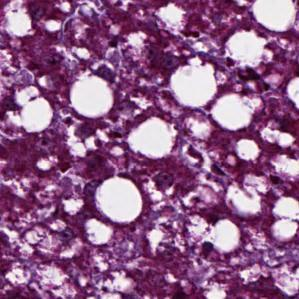steatosis: (94, 174, 145, 224), (167, 60, 218, 109), (65, 77, 115, 119), (131, 115, 177, 158)
